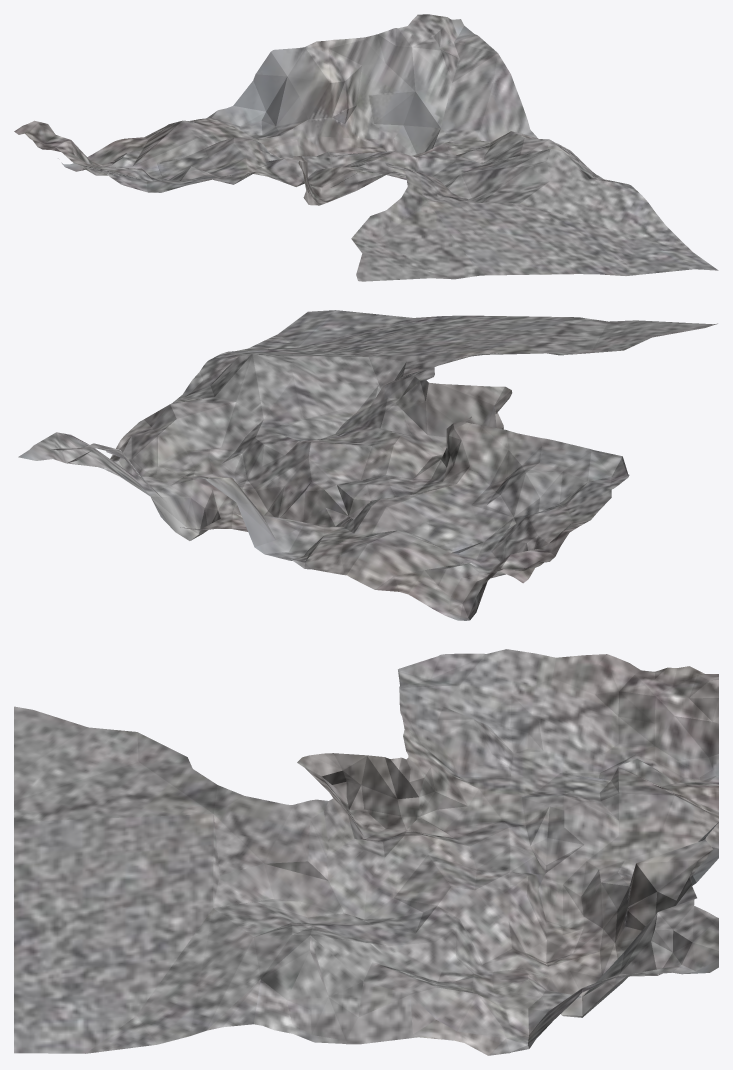
The picture shows the model from 3 angles, top to bottom: view 1: azimuth 30°, elevation 25°; view 2: azimuth 150°, elevation 25°; view 3: azimuth 270°, elevation 25°; orthographic projection. The views are drawn at different scales.
Bounding box in the file's own units: 0.8374 × 0.1816 × 0.8373.
Materials: 2 (2 with a texture image).
